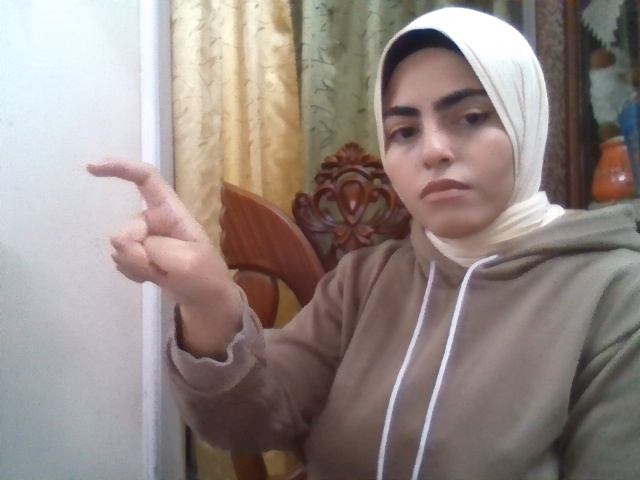X: (86, 157, 231, 301)
